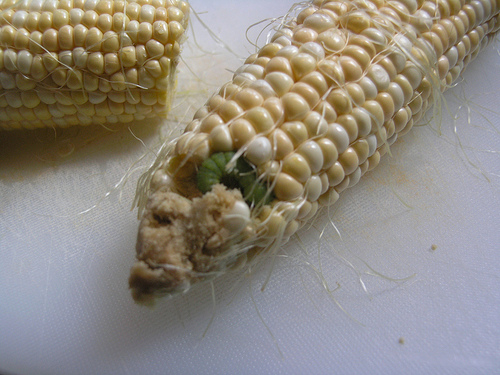corn: (125, 0, 499, 310), (1, 0, 190, 131)
